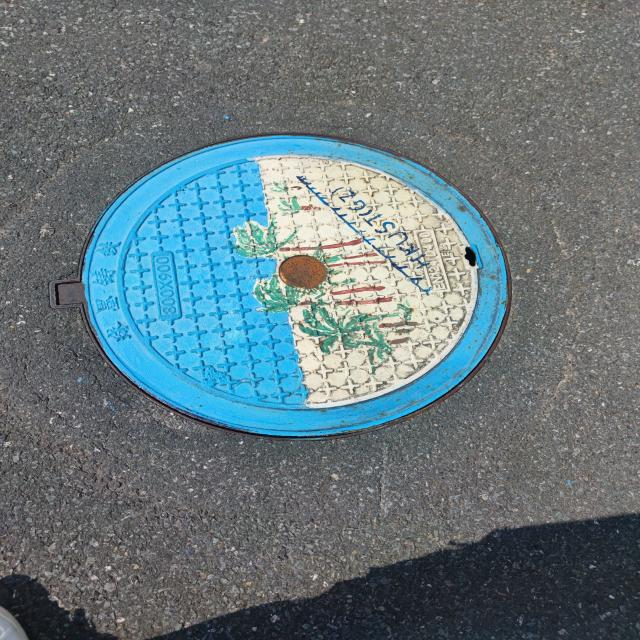Good: (48, 130, 517, 444)
